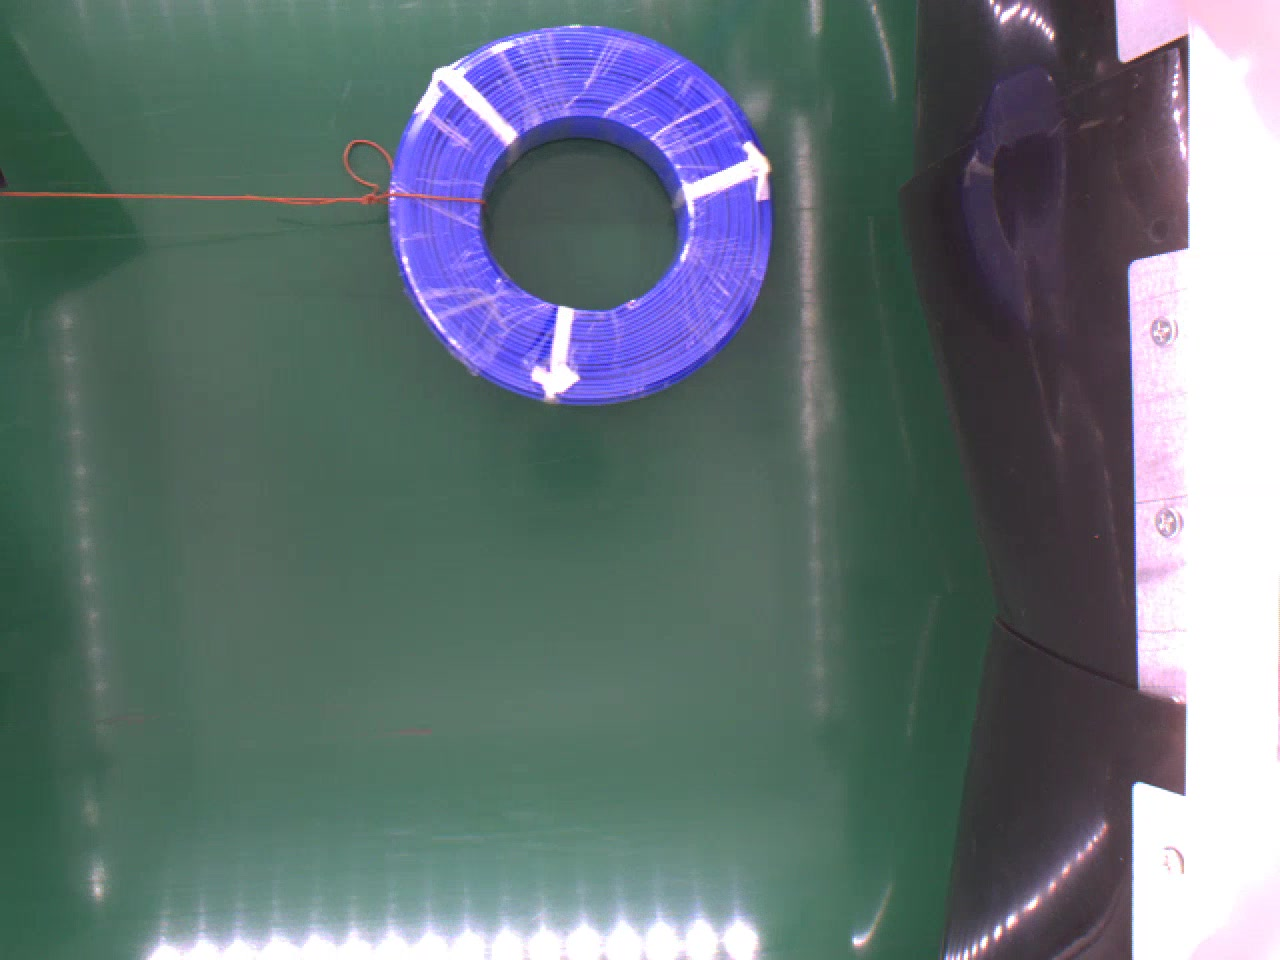blue: (388, 23, 778, 404)
